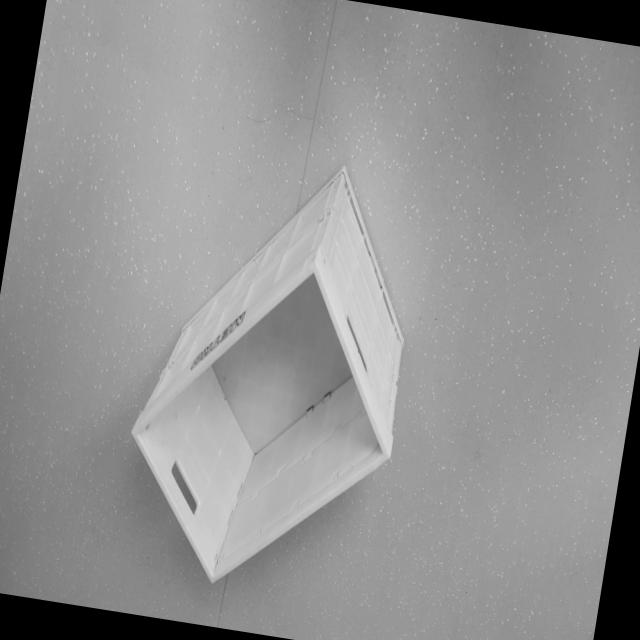box: (104, 120, 451, 618)
